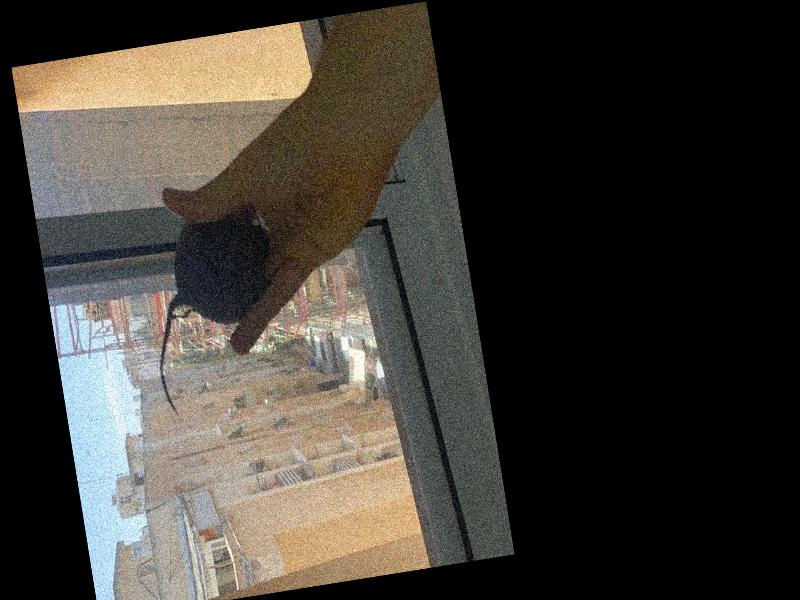Beet: (136, 211, 293, 418)
